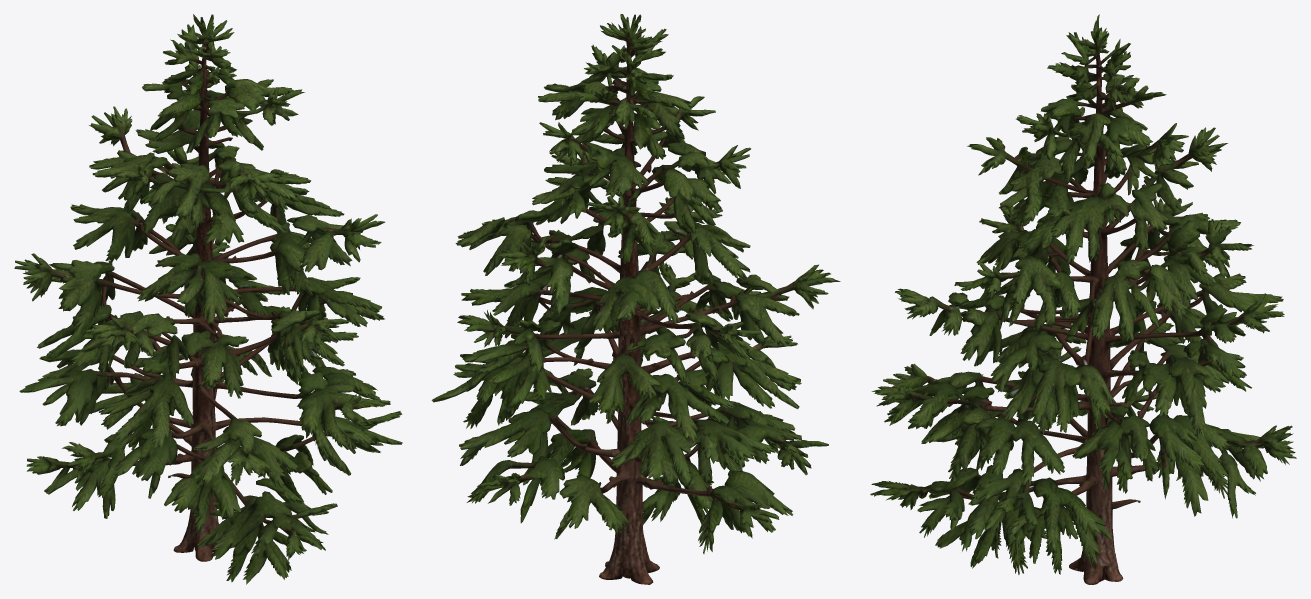
The model's file is CW_HF_AlpineFir.fbx.
The picture shows the model from 3 angles, left to right: view 1: azimuth 30°, elevation 25°; view 2: azimuth 150°, elevation 25°; view 3: azimuth 270°, elevation 25°; orthographic projection. The views are drawn at different scales.
Visible parts, largest first — view 1: CW_HF_AlpineFir; view 2: CW_HF_AlpineFir; view 3: CW_HF_AlpineFir.
Part boxes in pixels (x1=…): CW_HF_AlpineFir: x1=14, y1=14, x2=402, y2=584; CW_HF_AlpineFir: x1=431, y1=14, x2=840, y2=584; CW_HF_AlpineFir: x1=870, y1=14, x2=1296, y2=584.
Size of the model in its own units: 5.63 by 9 by 6.27.
1 material, 1 textured.
